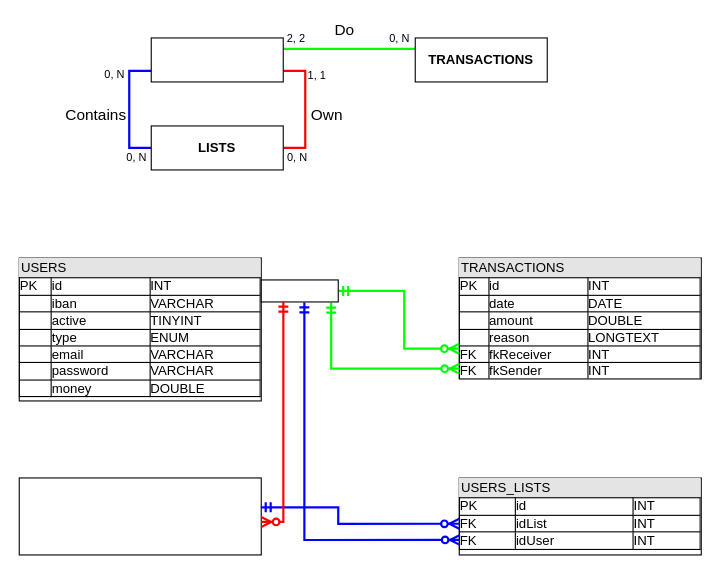
This 721x574 diagram has some shape labels left out. Here are the shapes that lost their labels. From the top down, the box of each, then its label:
(150, 37, 283, 82): USERS
(260, 279, 338, 302): id
(18, 477, 261, 555): LISTS PK id INT FK userId INT name VARCHAR
